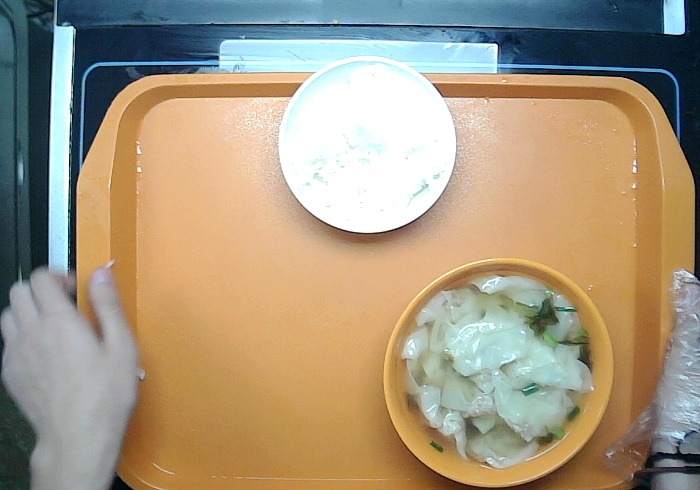NLDX-Fan_Wan: (275, 54, 458, 236)
NLDX-Hun_Tun_Wan: (380, 256, 617, 490)
